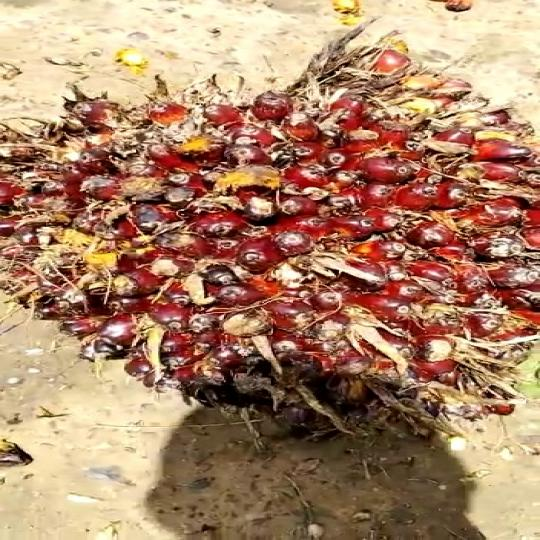masak: (0, 34, 540, 454)
